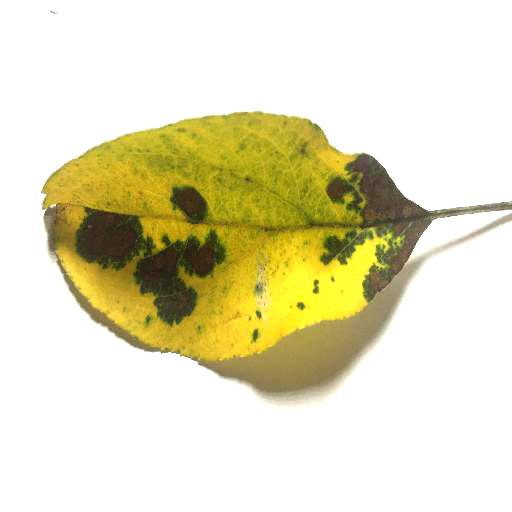Brown_Spot: (66, 178, 243, 332), (332, 140, 430, 316)
